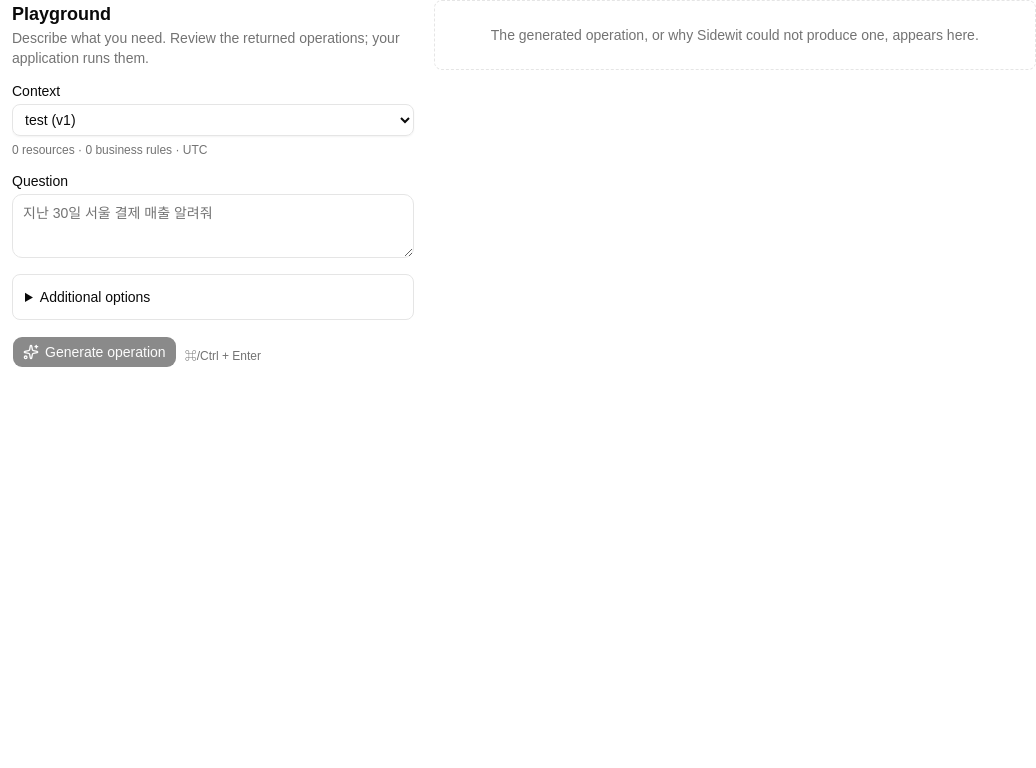
Test case: expired generation history stays an inline error
The width and height of the screenshot is (1036, 768).
In the text box labelled "Question": (213, 226) [12, 194, 414, 258], type "keep my question"
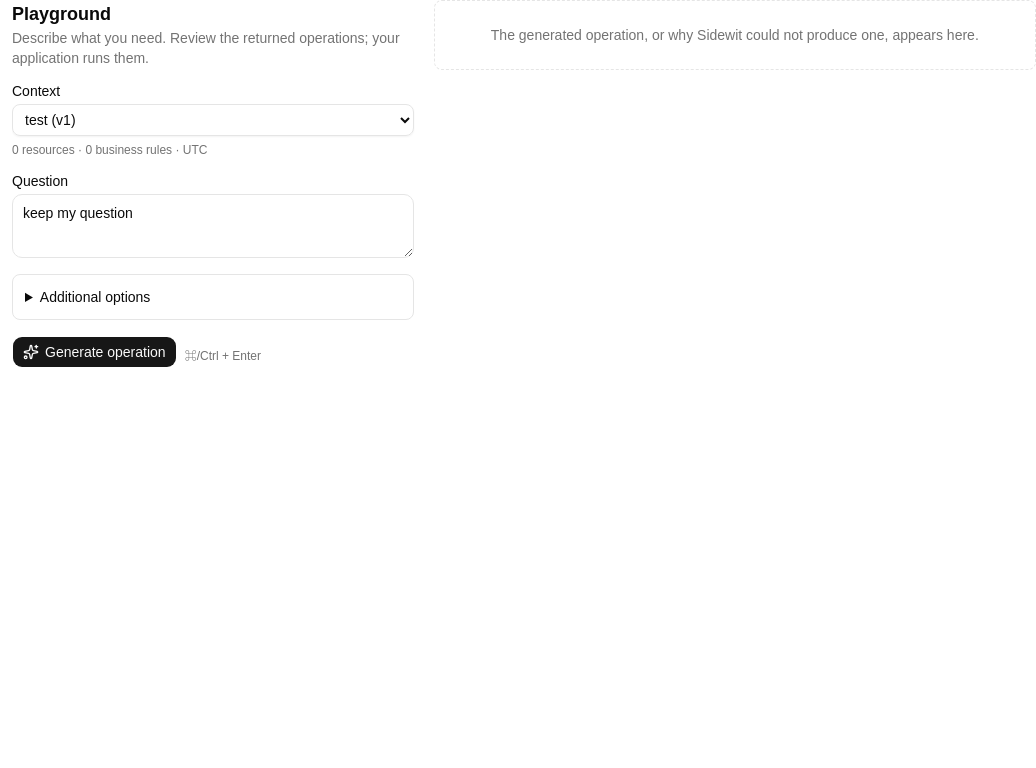
Click the button "Generate operation": (94, 352) [12, 336, 177, 368]
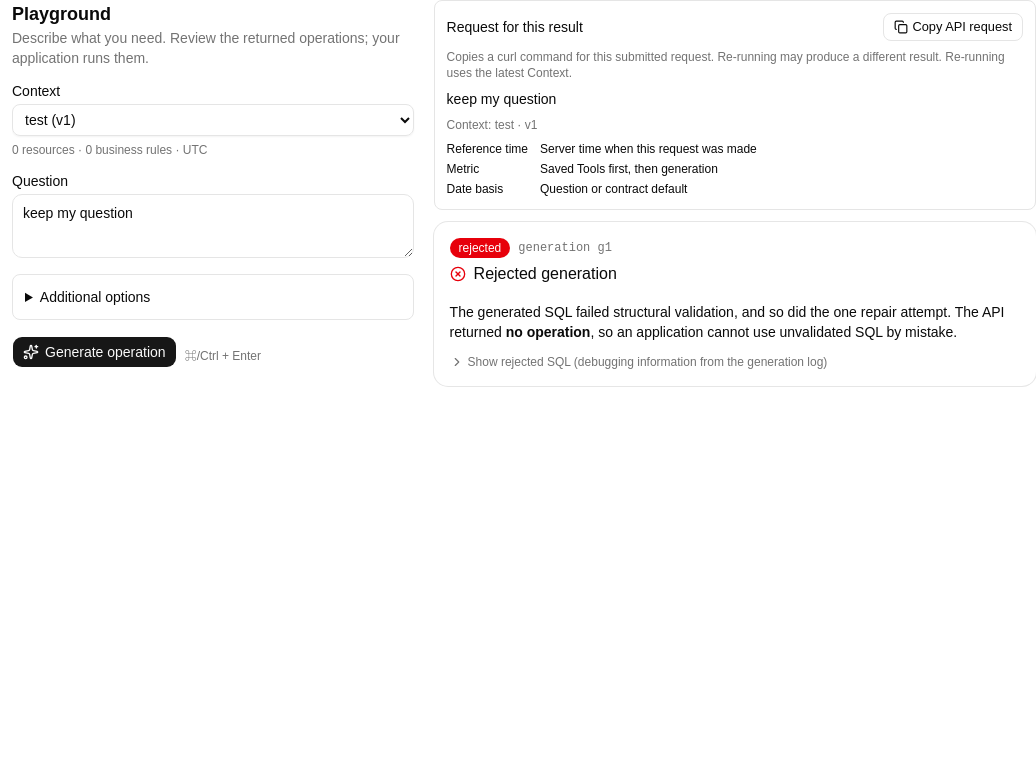
Click the button "Show rejected SQL": (638, 362) [450, 354, 827, 370]
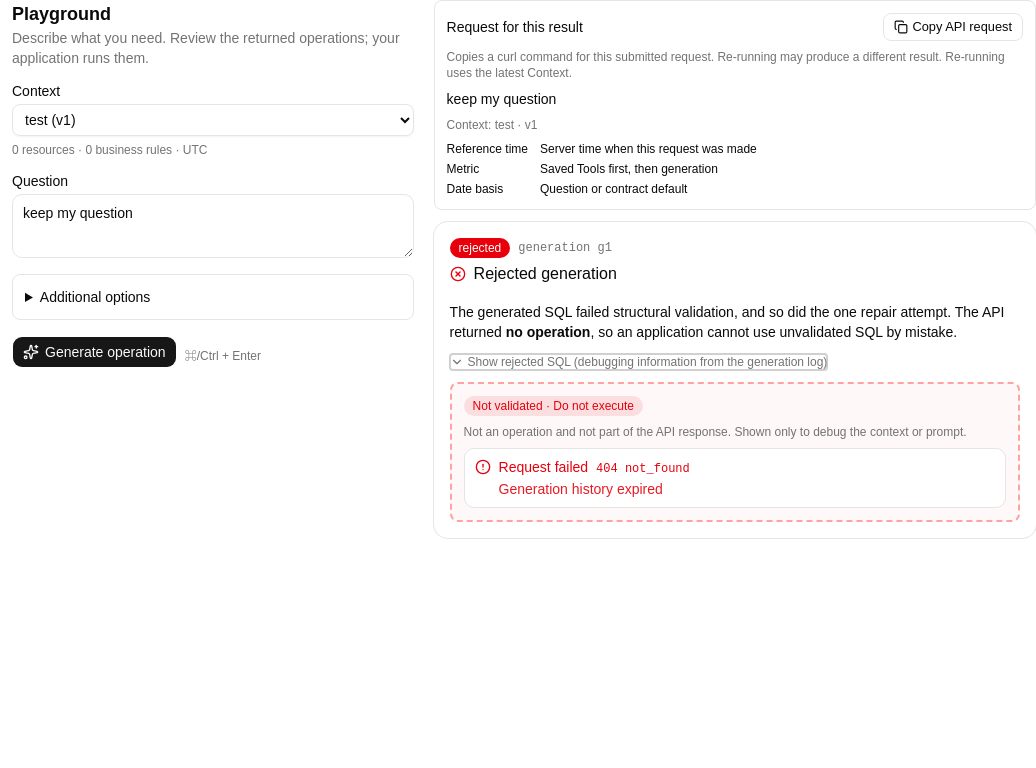
Check: the text "Generation history expired" is shown, box [499, 481, 663, 497]
